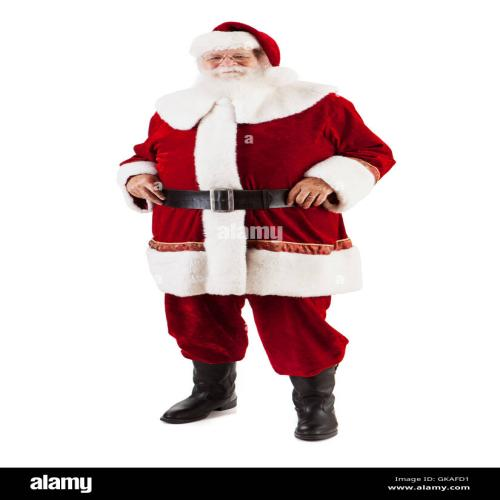Santa: (118, 20, 398, 441)
